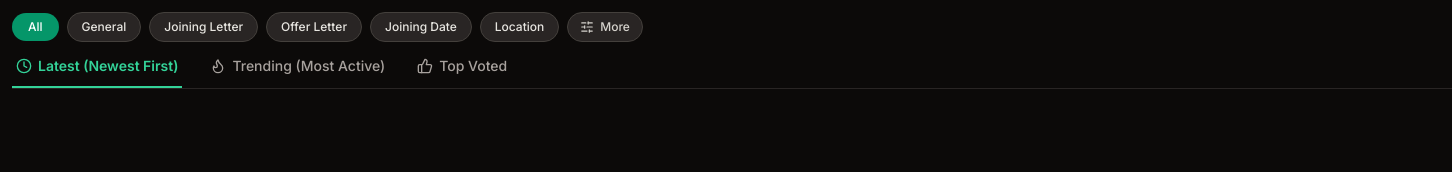
CategoryTabs › caps the pill row and reveals the rest through More, per the design
The image size is (1452, 172).
Expected: the radio button labelled "All" is shown, [12,13,59,41]
Expected: the radio button labelled "Joining Letter" is shown, [149,12,258,42]
Click the button "More": (605, 27) [567,12,643,42]
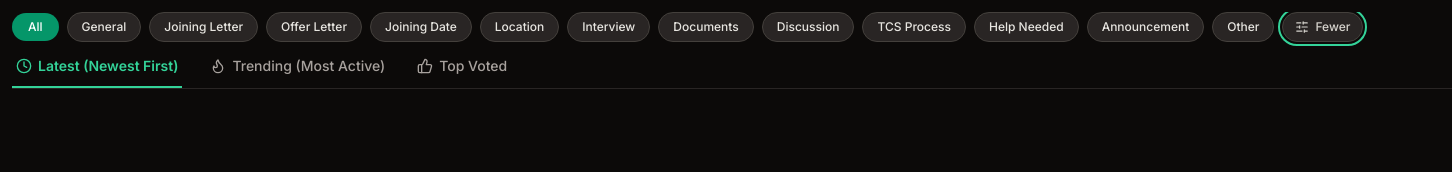
Expected: the number of radio buttons is 16
Expected: the radio button labelled "Help Needed" is shown, [974,12,1079,42]
Expected: the button "Fewer" is shown, [1282,12,1363,42]
